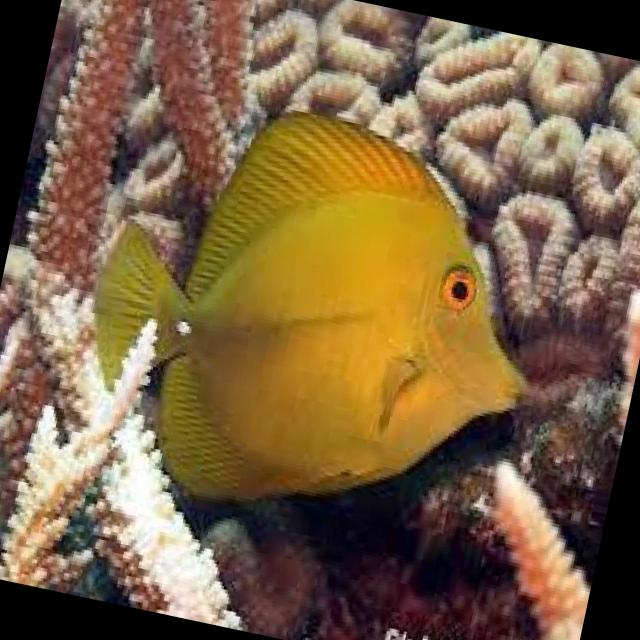TangFish: (56, 78, 572, 564)
